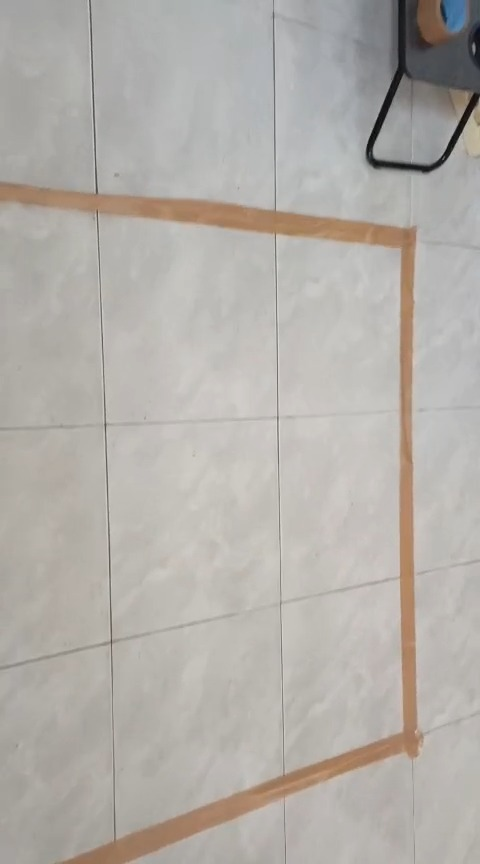floor marking: (0, 183, 422, 863)
